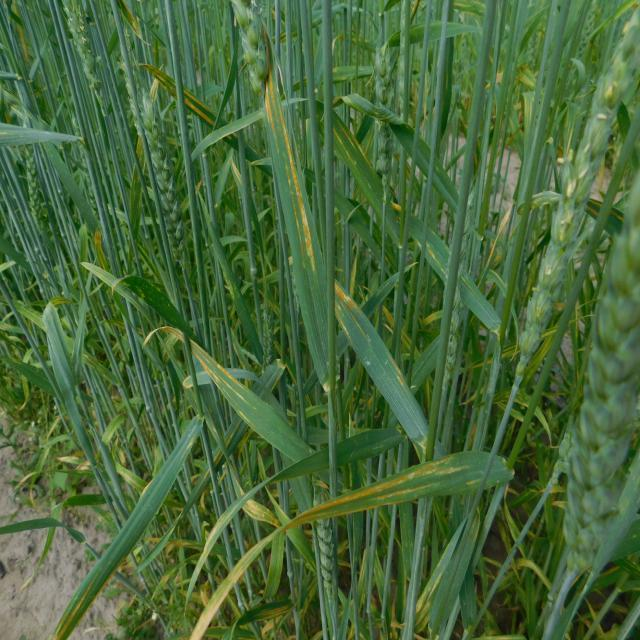Yellow Rust: (263, 66, 328, 391), (280, 451, 489, 531), (190, 340, 310, 461)
